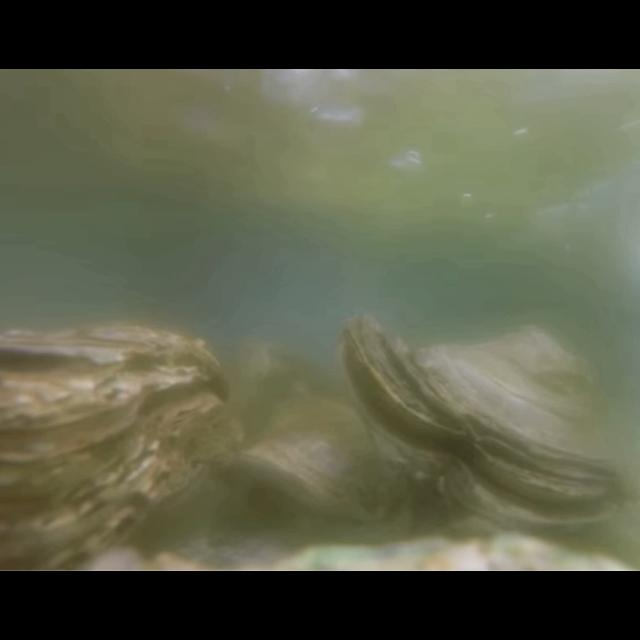Oyster-Closed: (1, 319, 246, 571)
Oyster-Indeterminate: (232, 396, 414, 532)
Oyster-Open: (333, 312, 639, 540)
